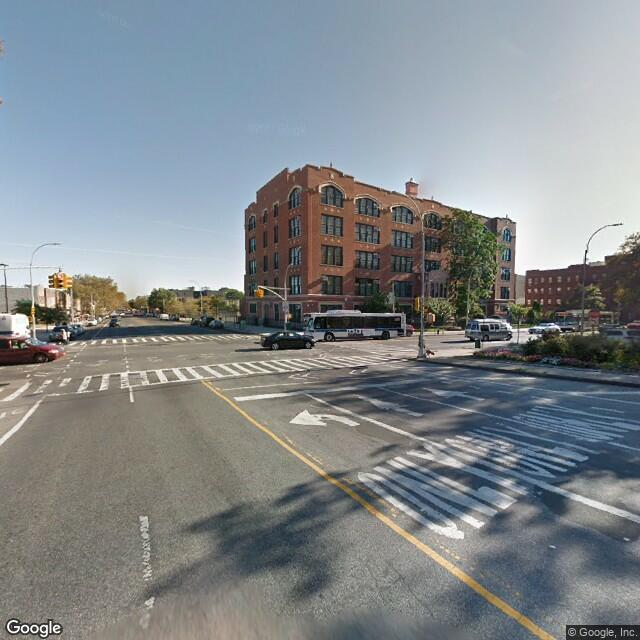litter: (623, 536, 633, 542), (551, 544, 556, 548)
